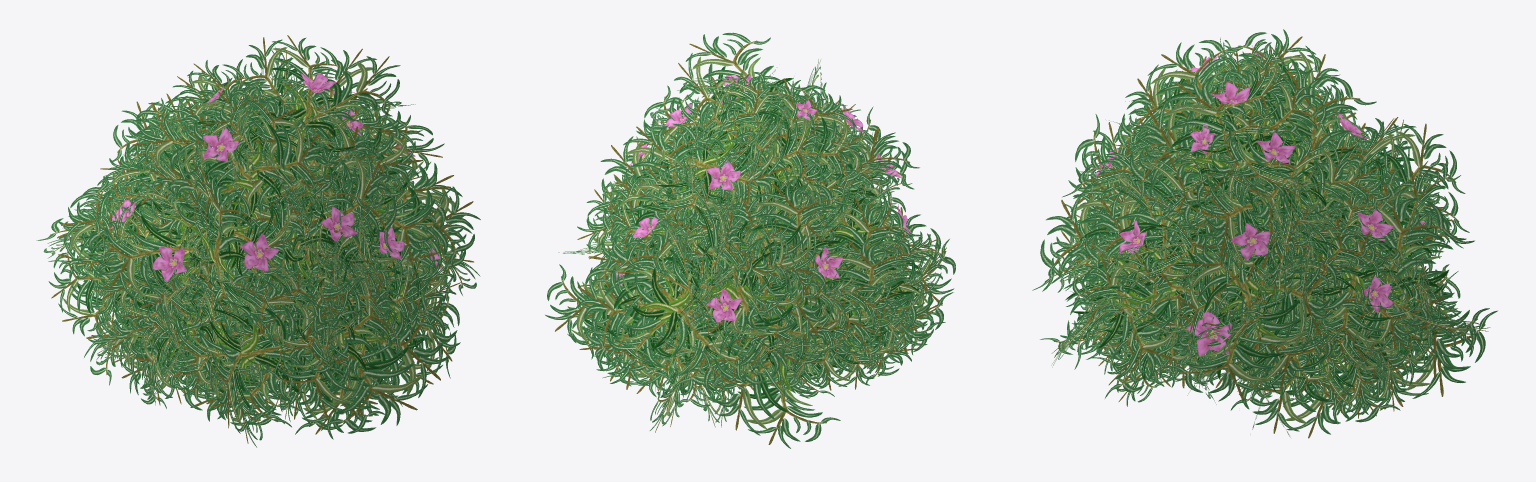
The model's file is Oleander.fbx.
3 views of the same model, side by side, from view 1: azimuth 30°, elevation 25°; view 2: azimuth 150°, elevation 25°; view 3: azimuth 270°, elevation 25° (orthographic). The views are drawn at different scales.
Visible parts, largest first — view 1: Oleander_LOD0; view 2: Oleander_LOD0; view 3: Oleander_LOD0.
Boxes of the visible parts, box(x1,y1,x2,y2) form: Oleander_LOD0: box(36, 35, 480, 447); Oleander_LOD0: box(545, 32, 955, 448); Oleander_LOD0: box(1032, 29, 1497, 438).
Size of what is drawn, in the model's own units: 1232 by 1093 by 1295.
